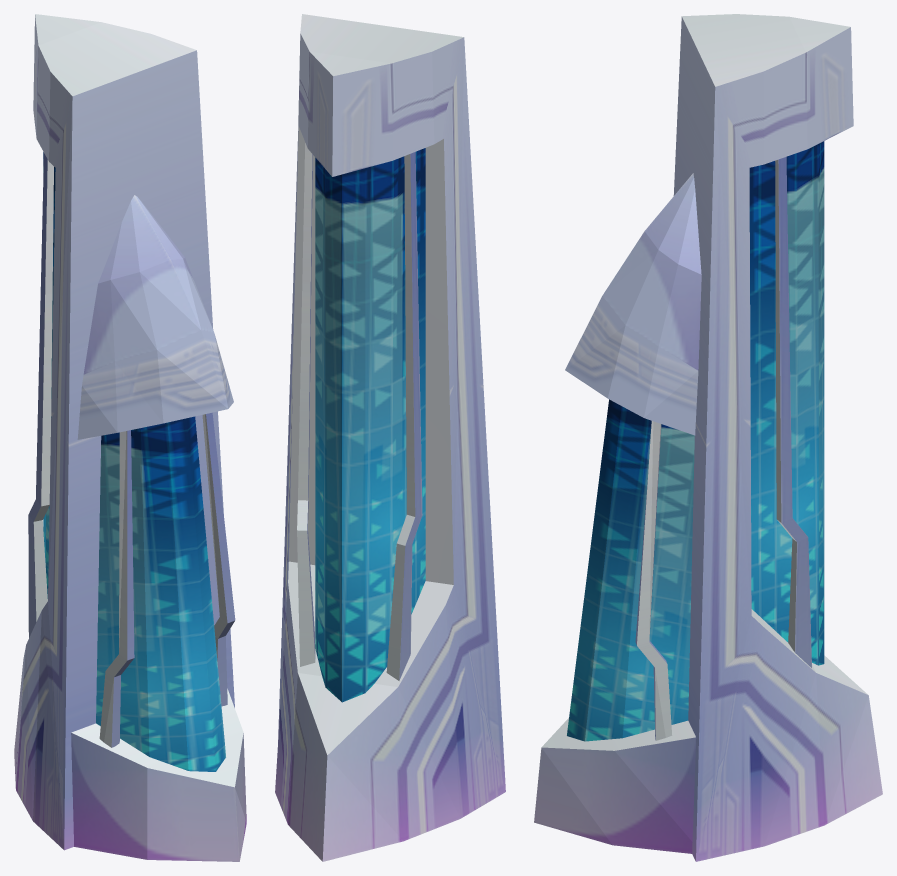
File: city_tower_a.glb
The picture shows the model from 3 angles, left to right: view 1: azimuth 30°, elevation 25°; view 2: azimuth 150°, elevation 25°; view 3: azimuth 270°, elevation 25°; orthographic projection. The views are drawn at different scales.
Parts seen in each view (by area): view 1: P00; view 2: P00; view 3: P00.
Part boxes in pixels (left/top/right/bottom): P00: left=14, top=14, right=246, bottom=861; P00: left=275, top=14, right=505, bottom=861; P00: left=534, top=14, right=882, bottom=861.
Size of the model in its own units: 12.53 by 45.16 by 18.55.
Materials: 1 (1 with a texture image).
